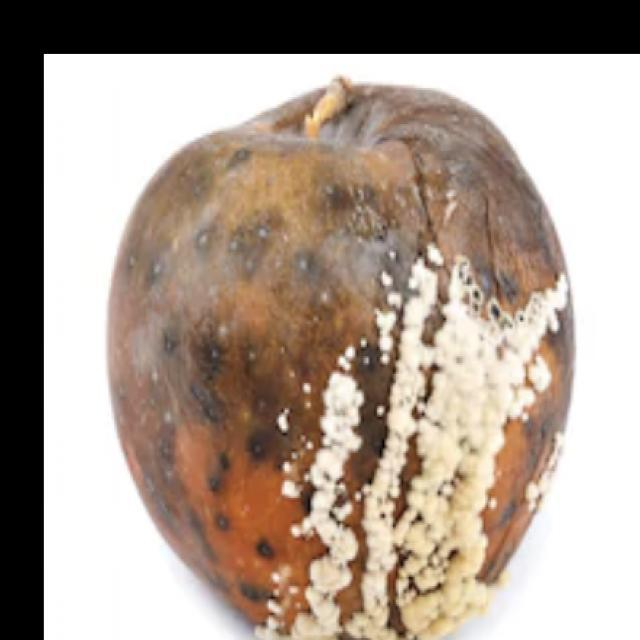Rotten: (113, 96, 598, 640)
